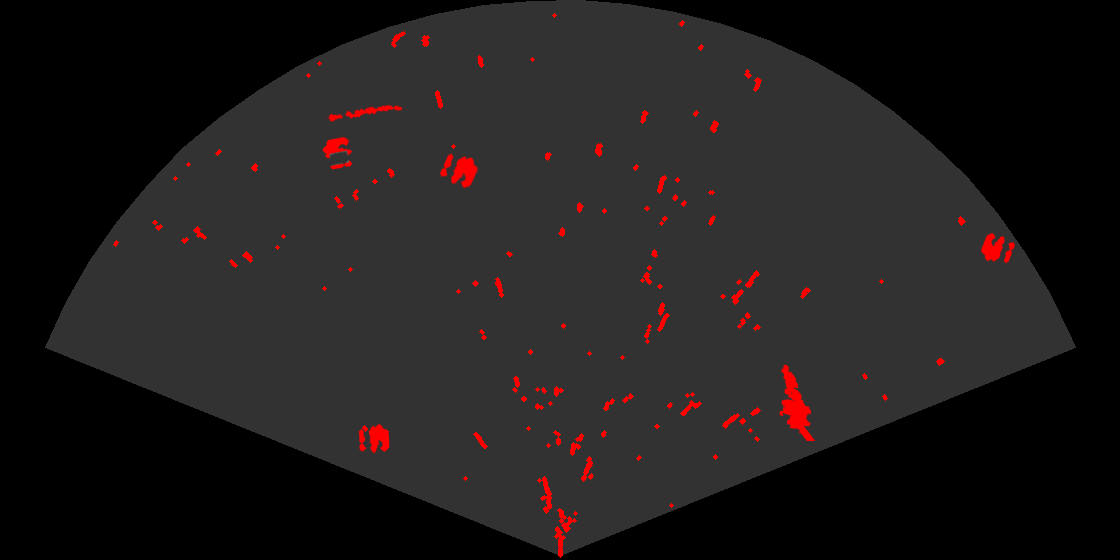ball: (438, 152, 480, 190), (979, 231, 1017, 265), (321, 135, 354, 171), (357, 423, 391, 455)
chain: (325, 103, 404, 123)
frogman: (778, 363, 817, 441)
